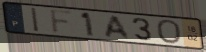1: (80, 12, 95, 38)
3: (131, 17, 154, 42)
A: (104, 15, 132, 40)
F: (49, 9, 76, 36)
I: (30, 7, 41, 34)
O: (156, 19, 184, 45)
